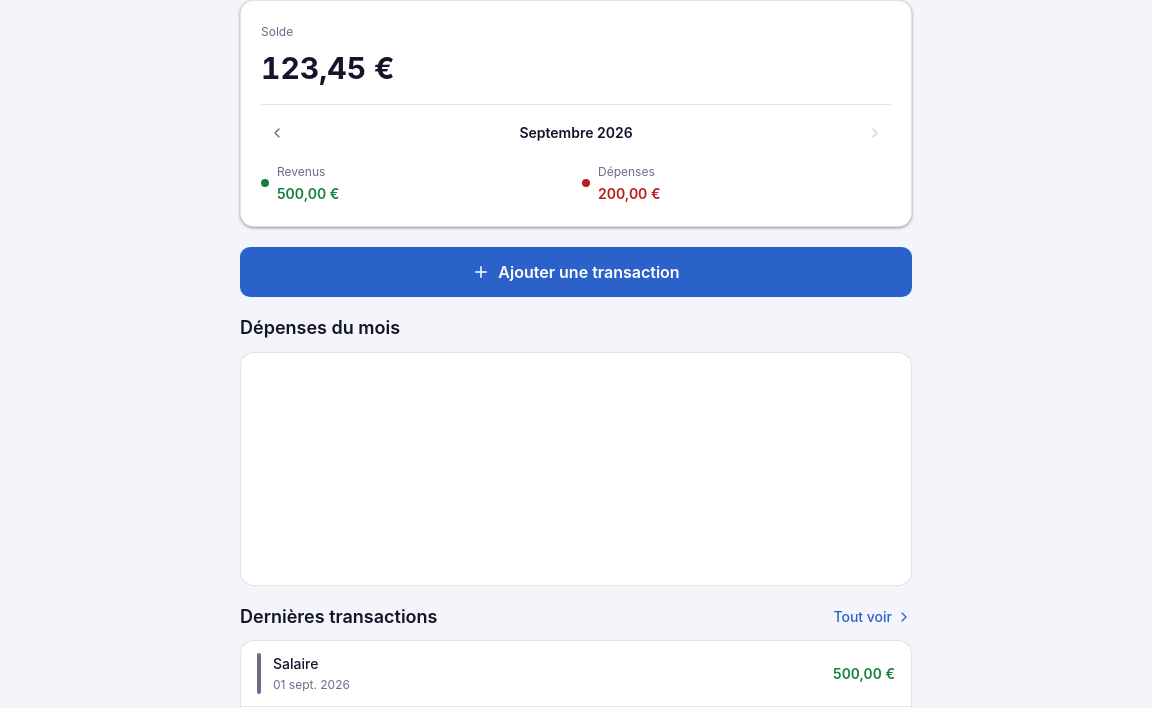
HomePage › le bouton d'ajout ouvre le formulaire dans une modale
Click the button with class "home__add". click: (576, 272)
box: [240, 247, 912, 297]
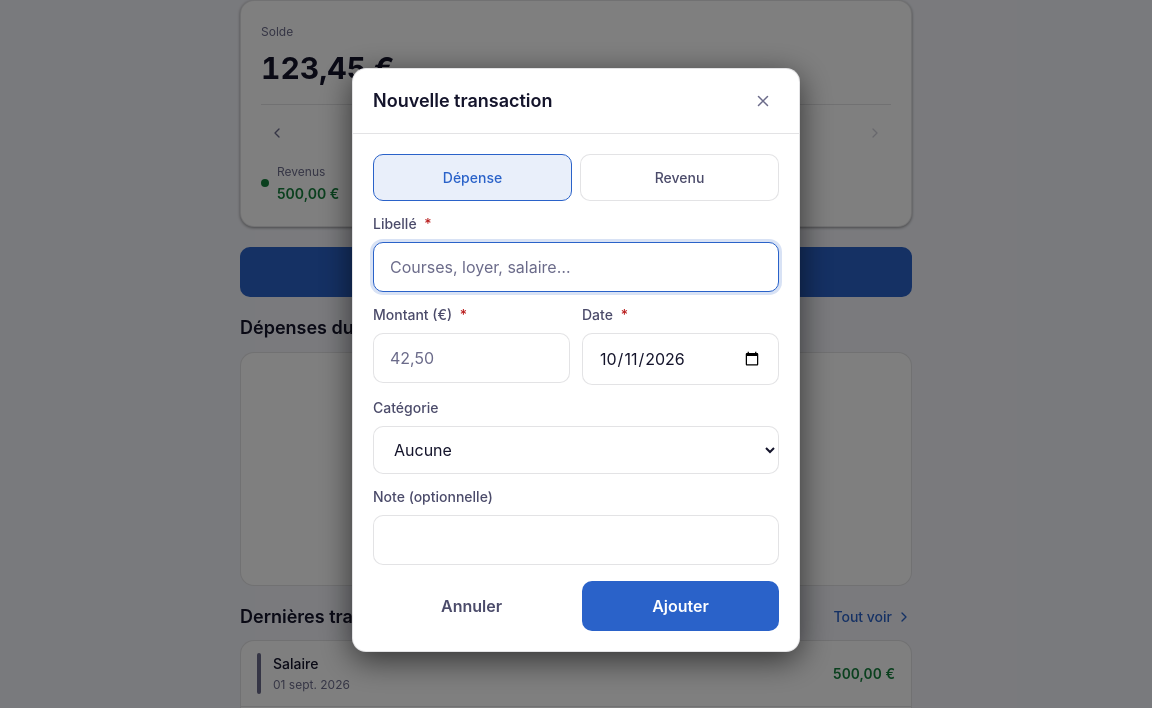
Check: the field with id "transaction-title" is shown, box [373, 242, 779, 292]
